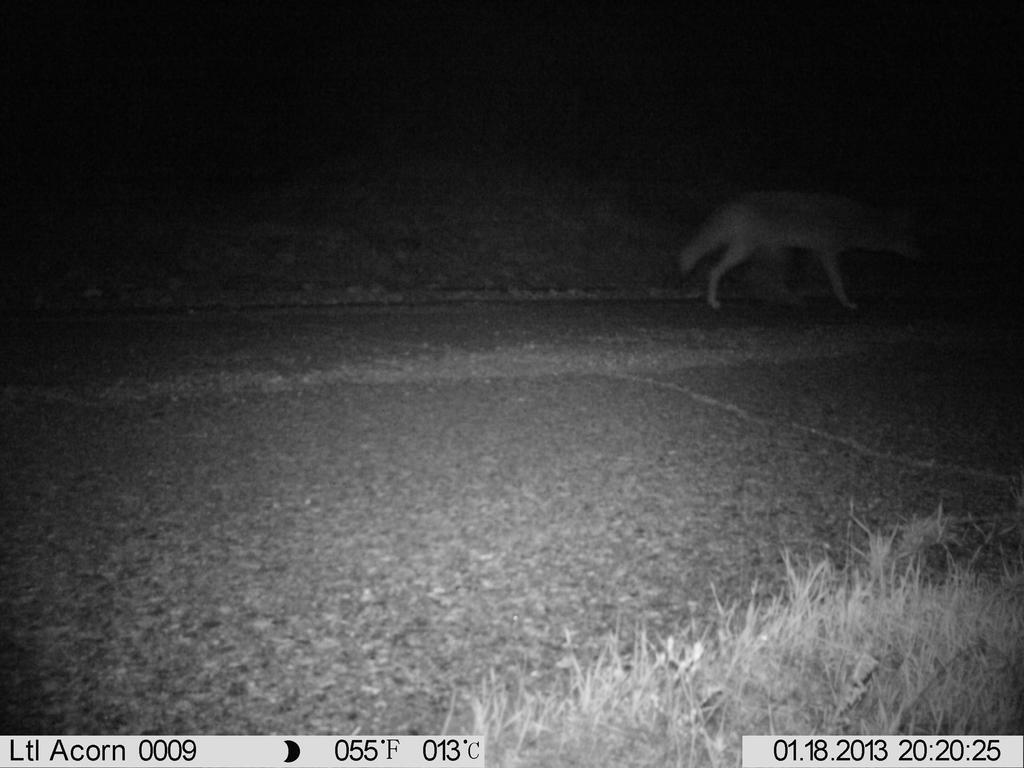coyote: (670, 187, 939, 321)
